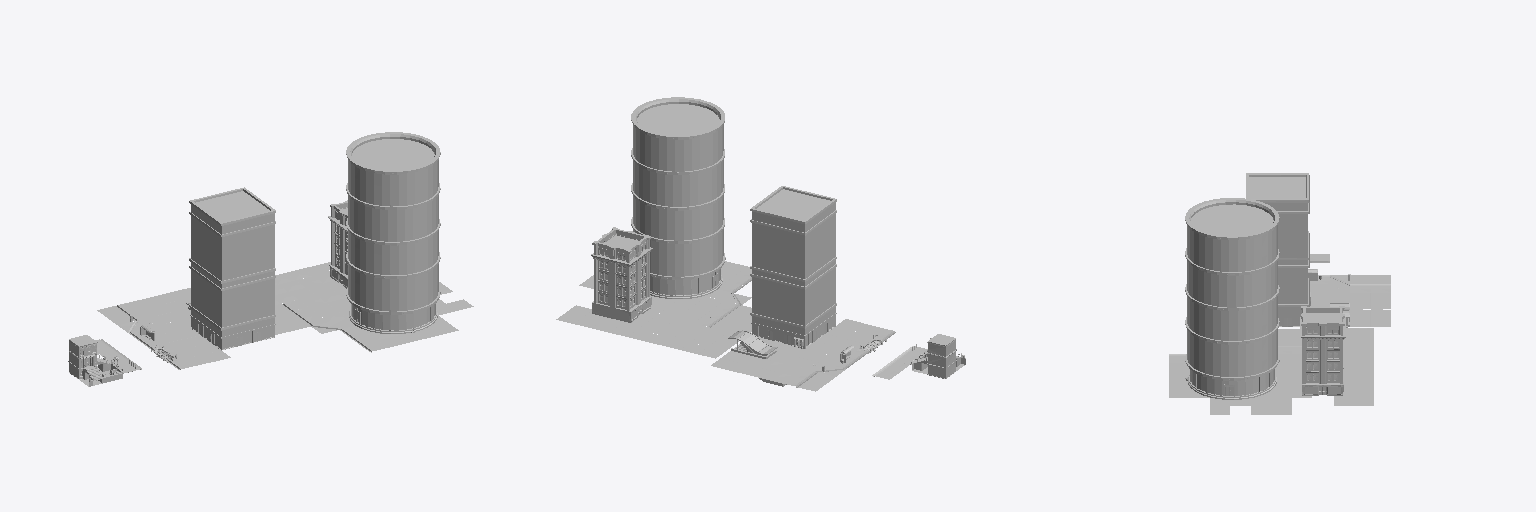
File: start_chunk_LOD_2.obj
The picture shows the model from 3 angles: view 1: azimuth 30°, elevation 25°; view 2: azimuth 150°, elevation 25°; view 3: azimuth 270°, elevation 25°; orthographic projection.
Parts seen in each view (by area): view 1: LOD_0_SM_Bld_Apartment_Corner_02_Scene.035; view 2: LOD_0_SM_Bld_Apartment_Corner_02_Scene.035; view 3: LOD_0_SM_Bld_Apartment_Corner_02_Scene.035.
Boxes of the visible parts, x1=… form: LOD_0_SM_Bld_Apartment_Corner_02_Scene.035: x1=68, y1=132, x2=473, y2=386; LOD_0_SM_Bld_Apartment_Corner_02_Scene.035: x1=556, y1=97, x2=965, y2=391; LOD_0_SM_Bld_Apartment_Corner_02_Scene.035: x1=1169, y1=173, x2=1390, y2=414.
Bounding box in the file's own units: 103 × 50.31 × 54.19.